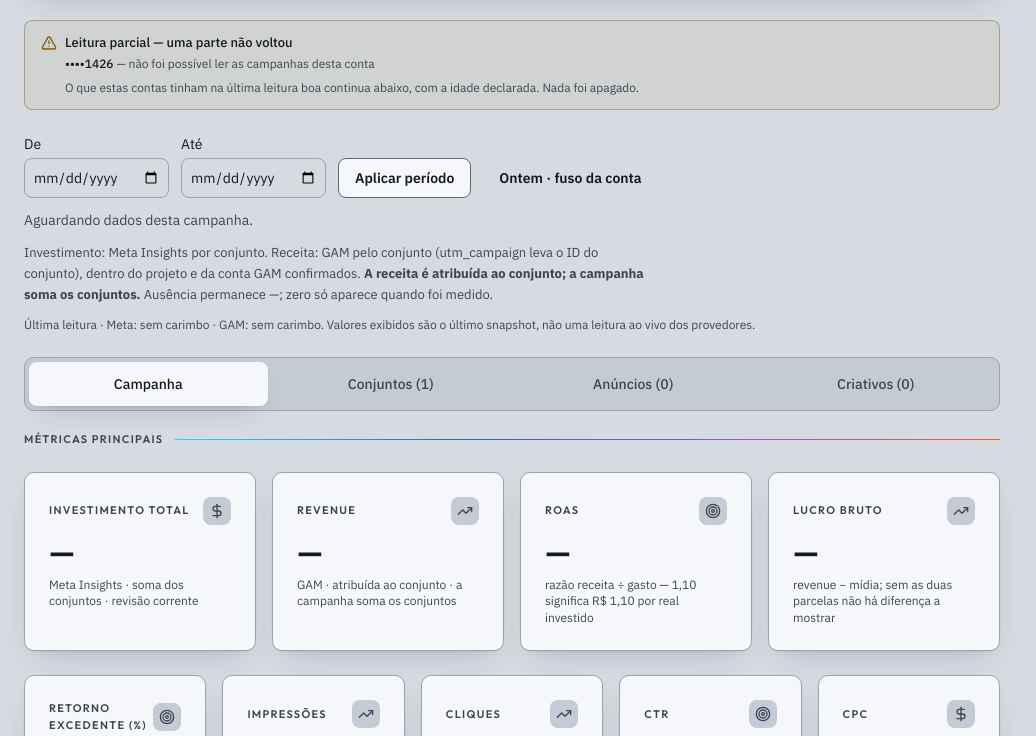
Scenario: MetaCampaignReadView — a página que se declara página › `has_more` oferece a próxima página pelo cursor opaco e apenda o resultado
(page scrolled)
Press the mouse on the tab "Conjuntos (1)" at (391, 384), box [272,362,510,406]
(page scrolled)
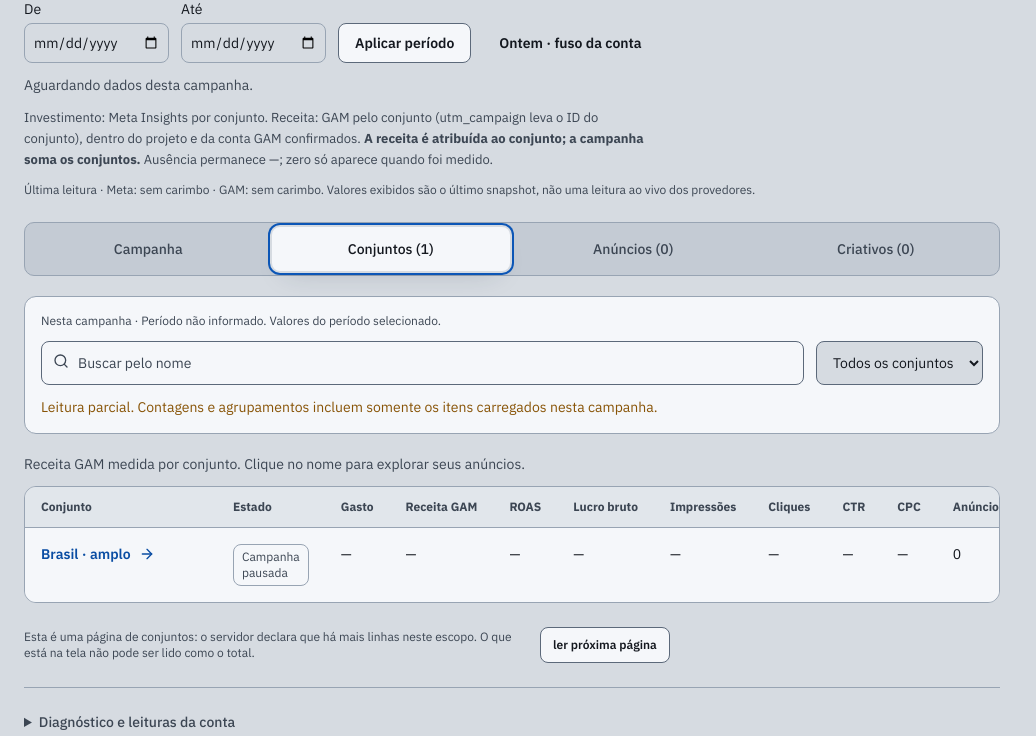
Expected: the text "há mais linhas neste escopo" is shown, [24,629,477,644]
Expected: the button "Brasil · amplo" is shown, [41,544,155,564]
Click the button "ler próxima página" at (605, 645), box [540,627,670,663]
(page scrolled)
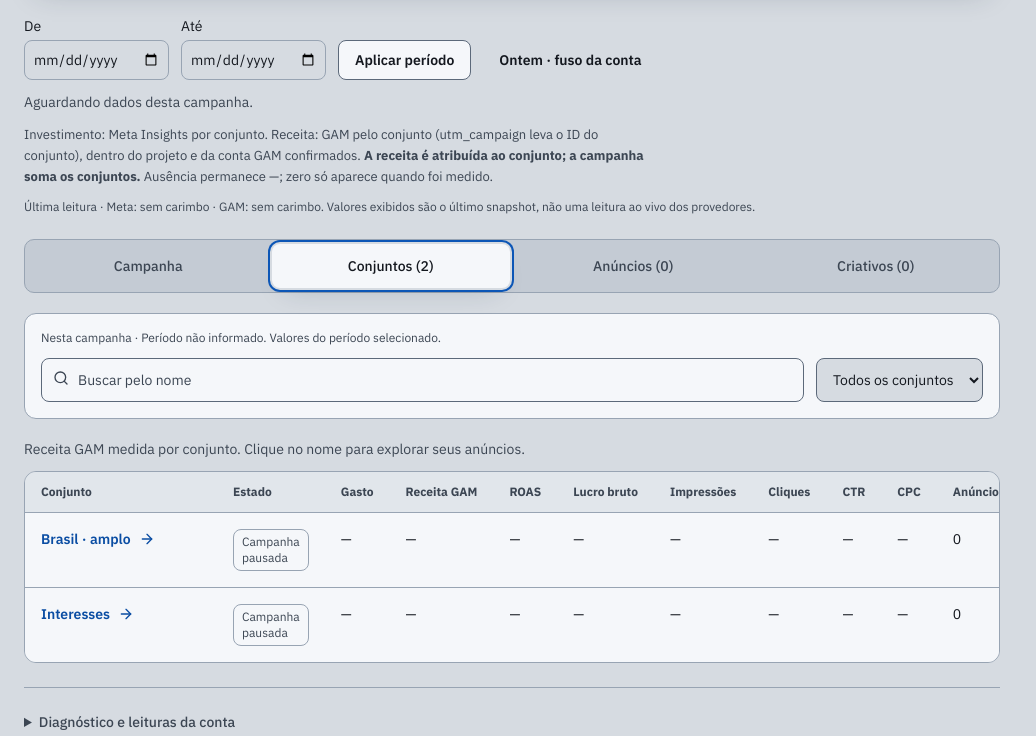
Expected: the button "Brasil · amplo" is shown, [41,529,155,549]
Expected: the button "Interesses" is shown, [41,604,134,624]
